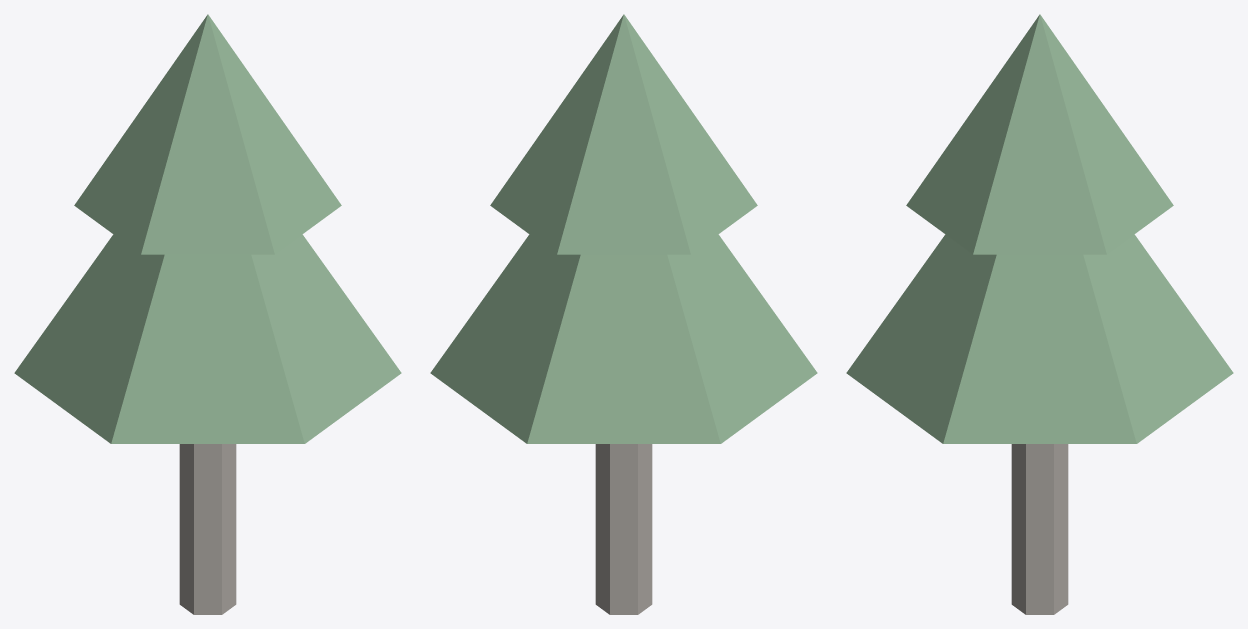
File: tree.glb
3 views of the same model, side by side, from view 1: azimuth 30°, elevation 25°; view 2: azimuth 150°, elevation 25°; view 3: azimuth 270°, elevation 25° (orthographic).
Parts seen in each view (by area): view 1: Tree; view 2: Tree; view 3: Tree.
Boxes of the visible parts, x1,y1,x2,y2 form: Tree: [14, 14, 401, 614]; Tree: [430, 14, 817, 614]; Tree: [846, 14, 1233, 614].
Size of the model in its own units: 0.9526 by 1.85 by 1.1.
